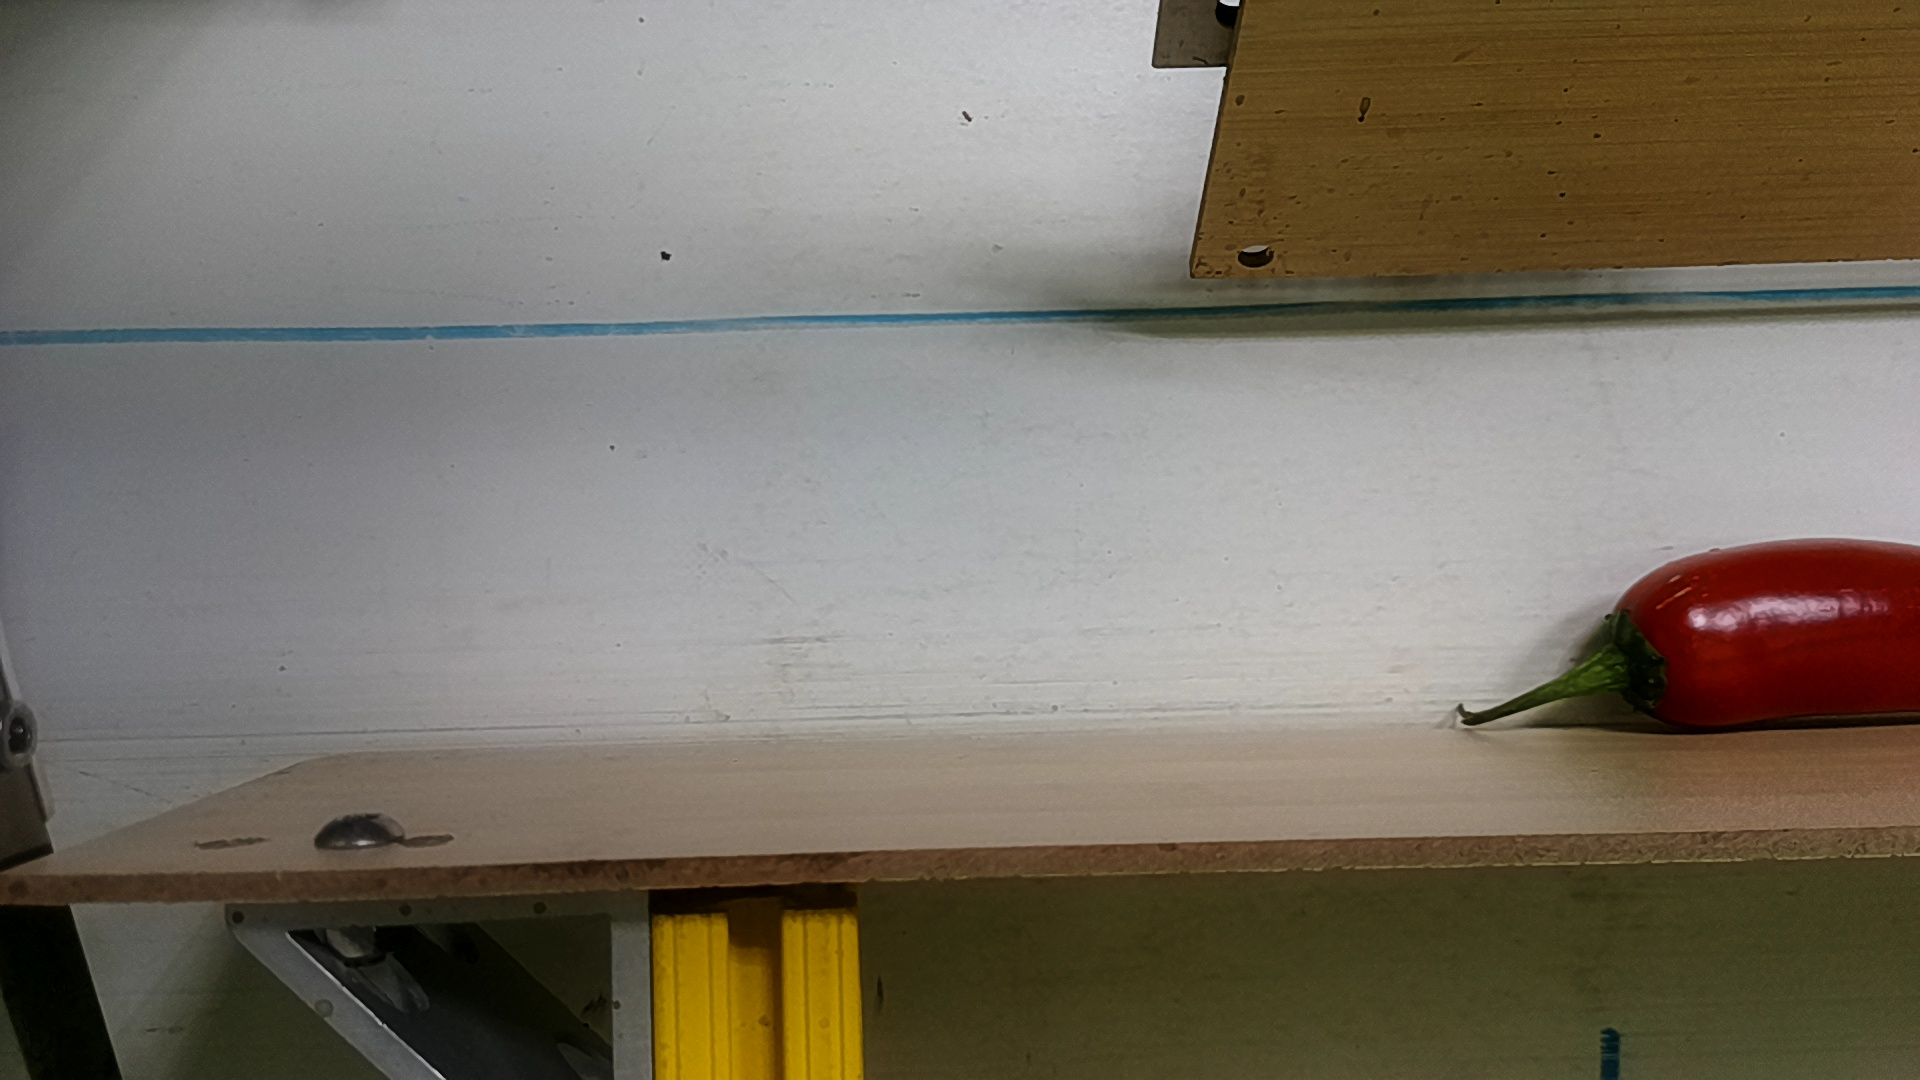Cut Point: (1589, 563, 1697, 731)
